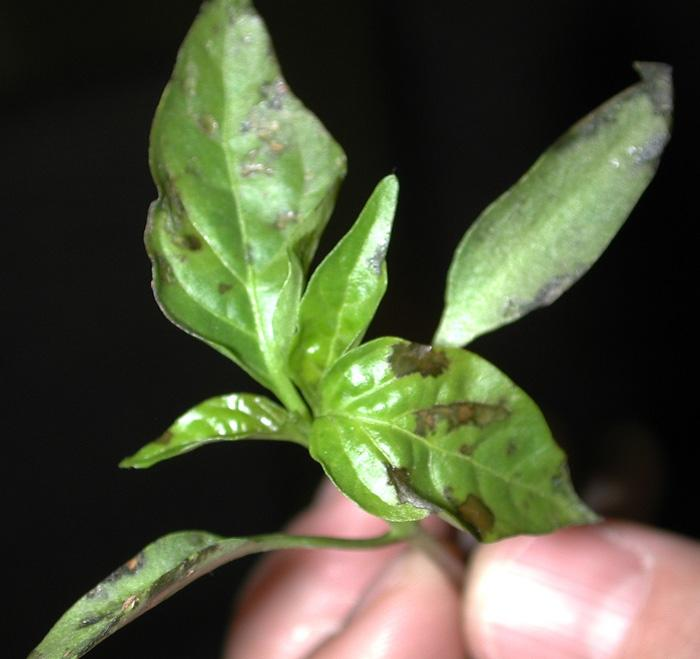Bell_pepper leaf: (119, 6, 356, 384), (295, 339, 620, 564), (26, 513, 267, 659)
